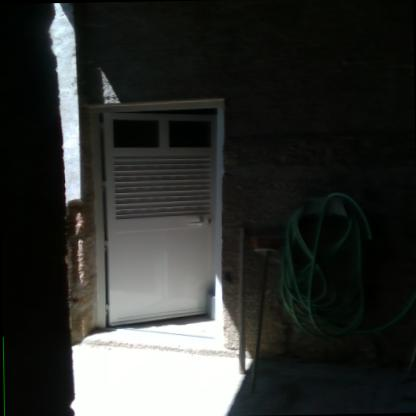semi: (77, 93, 238, 356)
